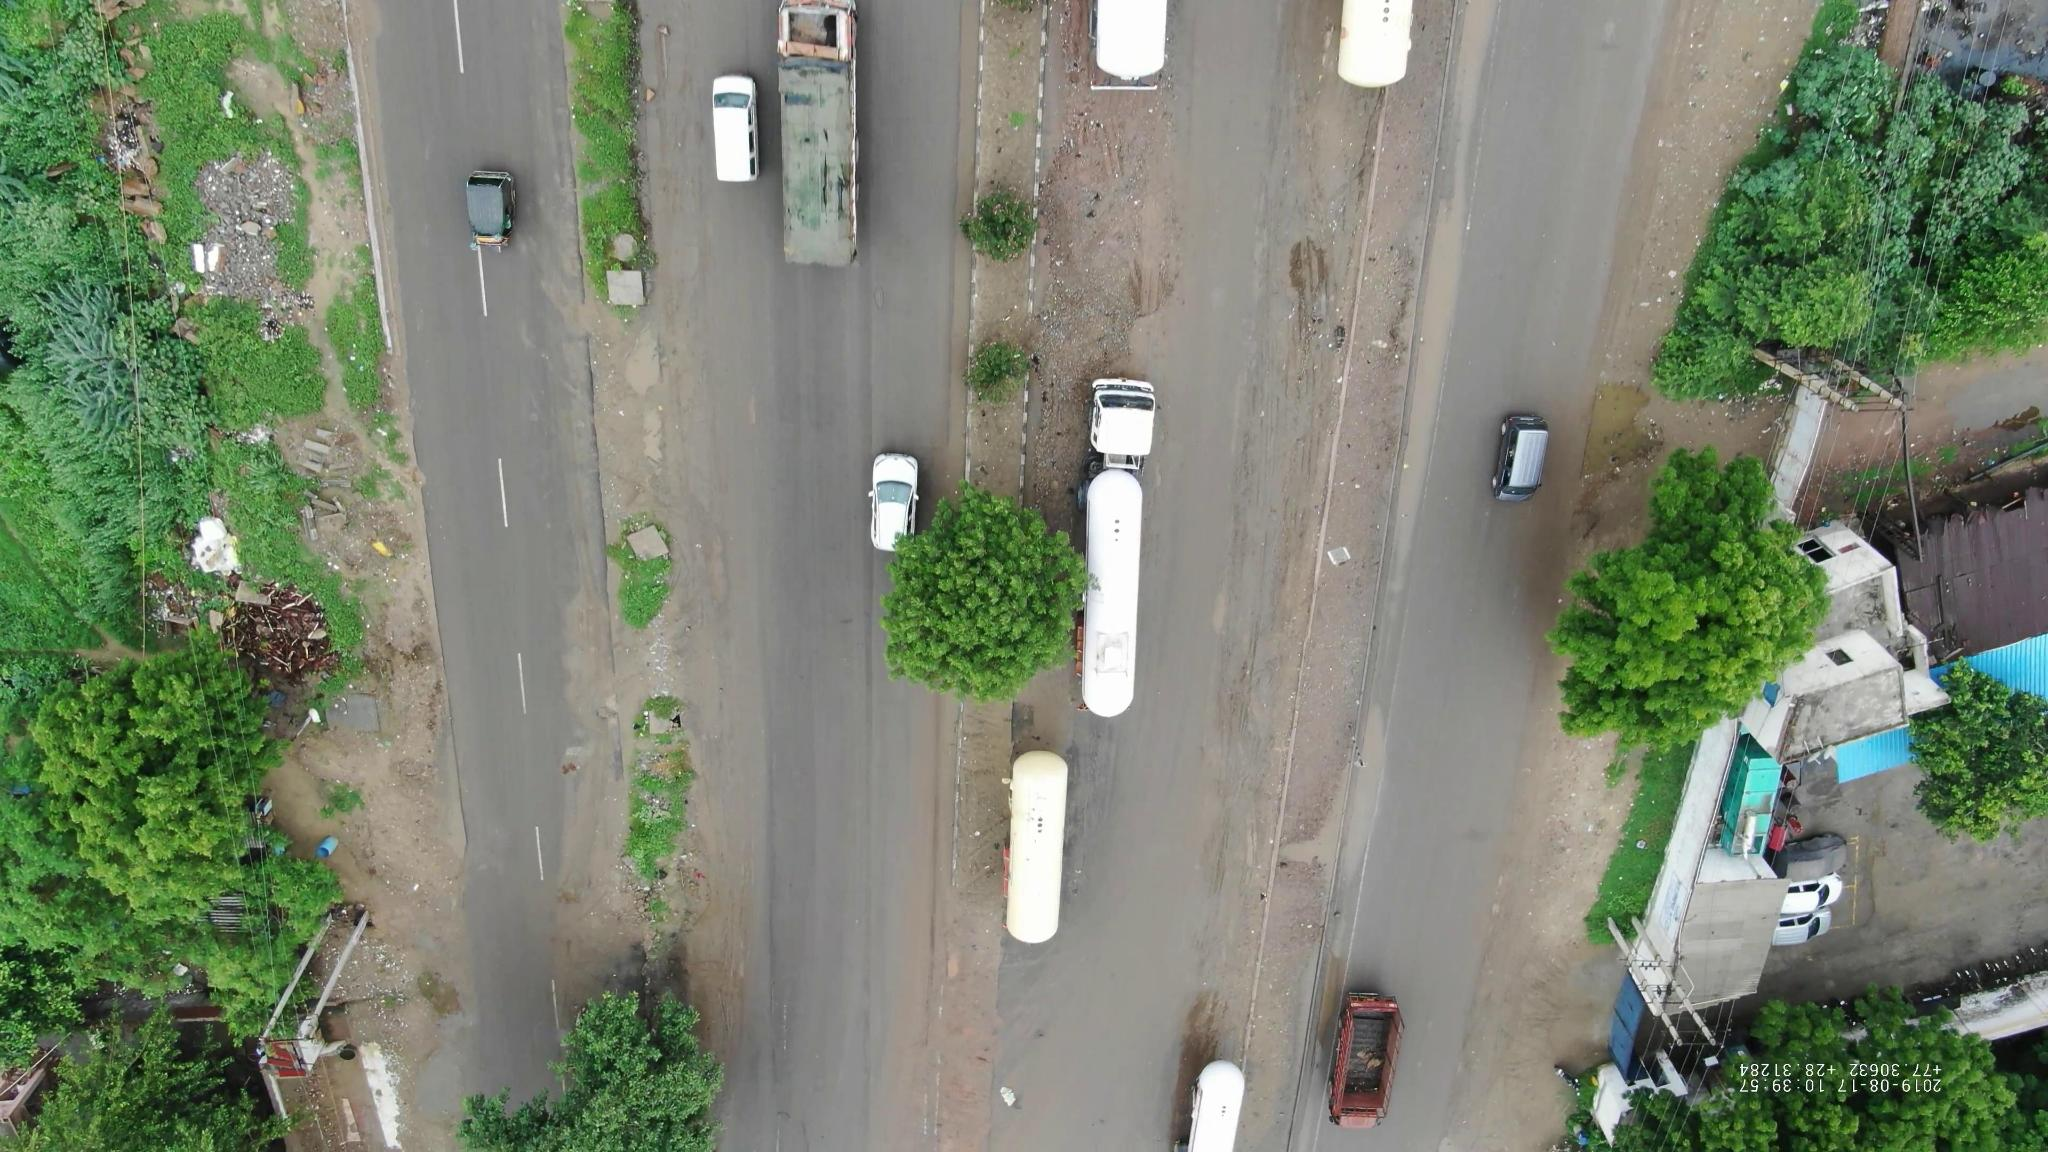Muddy_road: (1115, 727, 1283, 1044)
Potholes: (535, 232, 588, 433), (625, 338, 675, 478), (689, 518, 744, 620), (729, 384, 785, 443), (580, 695, 634, 736), (866, 286, 910, 331)
Waterlogging: (1412, 13, 1506, 412), (1307, 722, 1395, 911), (1564, 385, 1677, 527)
